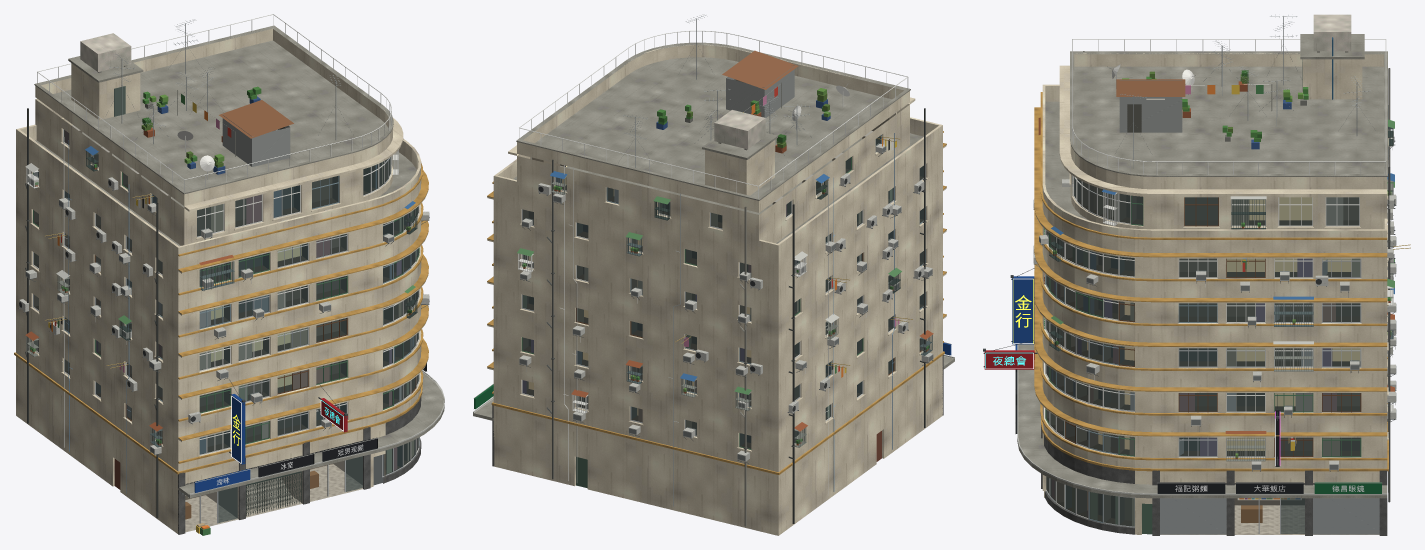
The model's file is hk-moderne-corner.glb.
The picture shows the model from 3 angles, left to right: view 1: azimuth 30°, elevation 25°; view 2: azimuth 150°, elevation 25°; view 3: azimuth 270°, elevation 25°; orthographic projection. The views are drawn at different scales.
Visible parts, largest first — view 1: Building_wall, Building_slab, Building_glass, Building_trim, Building_room, Building_vc, Building_metal, Building_frame, Building_board, Building_ac, Building_floor_tile, Building_granite (+3 smaller); view 2: Building_wall, Building_slab, Building_vc, Building_metal, Building_glass, Building_ac, Building_room, Building_tin, Building_trim, Building_tank, Building_frame; view 3: Building_wall, Building_slab, Building_glass, Building_trim, Building_room, Building_vc, Building_frame, Building_metal, Building_board, Building_shutter, Building_granite, Building_lit_warm (+4 smaller).
Boxes of the visible parts, <box> form: Building_wall: <box>16,28,428,533</box>; Building_slab: <box>34,25,444,509</box>; Building_glass: <box>33,130,418,522</box>; Building_trim: <box>14,163,428,474</box>; Building_room: <box>34,125,418,518</box>; Building_vc: <box>25,86,428,535</box>; Building_metal: <box>18,14,444,516</box>; Building_frame: <box>33,129,419,523</box>; Building_board: <box>194,363,426,492</box>; Building_ac: <box>19,176,429,454</box>; Building_floor_tile: <box>185,464,362,532</box>; Building_granite: <box>178,396,421,534</box>; Building_wall: <box>487,44,946,535</box>; Building_slab: <box>473,42,954,420</box>; Building_vc: <box>517,50,933,526</box>; Building_metal: <box>473,15,954,488</box>; Building_glass: <box>522,135,923,448</box>; Building_ac: <box>519,143,933,461</box>; Building_room: <box>523,79,923,448</box>; Building_tin: <box>726,65,794,117</box>; Building_trim: <box>487,131,946,474</box>; Building_tank: <box>714,110,765,149</box>; Building_frame: <box>521,135,925,449</box>; Building_wall: <box>1036,53,1388,534</box>; Building_slab: <box>1017,34,1387,498</box>; Building_glass: <box>1046,177,1360,533</box>; Building_trim: <box>1034,92,1388,471</box>; Building_room: <box>1044,98,1359,525</box>; Building_vc: <box>1034,37,1395,525</box>; Building_frame: <box>1044,176,1361,533</box>; Building_metal: <box>983,14,1396,534</box>; Building_board: <box>984,276,1381,493</box>; Building_shutter: <box>1160,498,1379,534</box>; Building_granite: <box>1041,425,1387,535</box>; Building_lit_warm: <box>1087,197,1359,450</box>.
Bounding box in the file's own units: 25.28 × 28.36 × 27.3.
22 materials, 9 textured.
